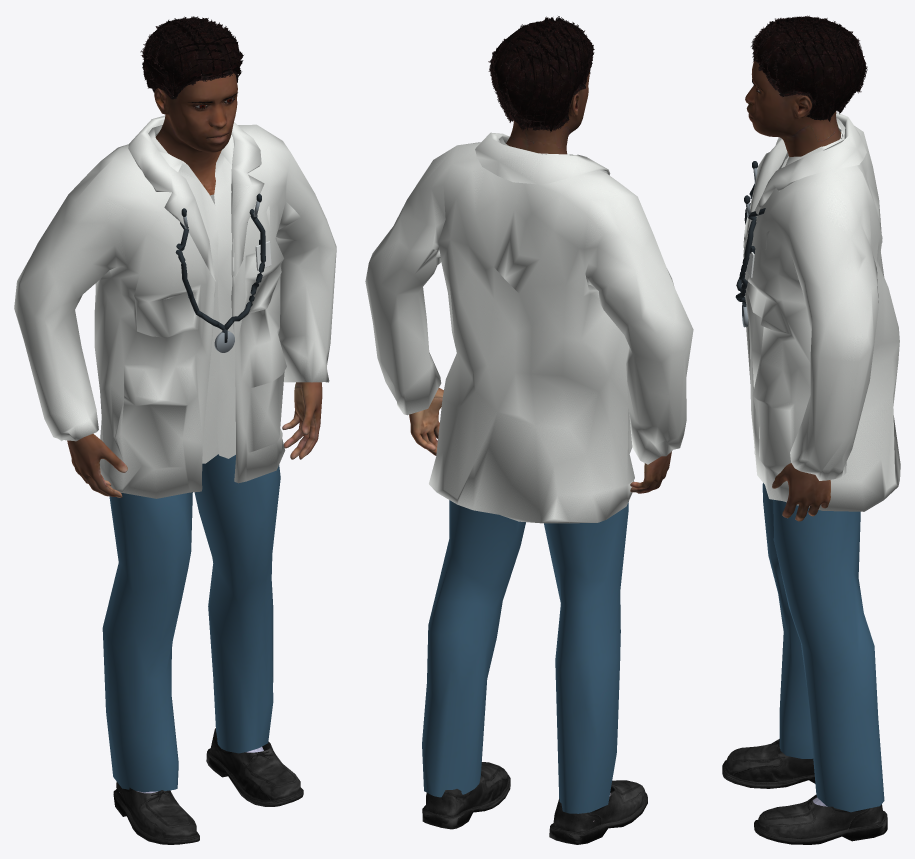
The model's file is hospital-doctor-v400.glb.
The picture shows the model from 3 angles, left to right: view 1: azimuth 30°, elevation 25°; view 2: azimuth 150°, elevation 25°; view 3: azimuth 270°, elevation 25°; orthographic projection.
Parts seen in each view (by area): view 1: male_casualsuit05, Jordan | anatomical body, shoes04, afro01, Clinical uniform | attached ID clip; view 2: male_casualsuit05, afro01, shoes04, Jordan | anatomical body; view 3: male_casualsuit05, afro01, shoes04, Jordan | anatomical body, Clinical uniform | attached ID clip.
Boxes of the visible parts, box(x1,y1,x2,y2) form: male_casualsuit05: box(14, 115, 336, 792); Jordan | anatomical body: box(67, 73, 322, 497); shoes04: box(113, 728, 303, 844); afro01: box(140, 16, 243, 99); Clinical uniform | attached ID clip: box(175, 193, 265, 342); male_casualsuit05: box(365, 132, 693, 813); afro01: box(488, 16, 594, 132); shoes04: box(422, 762, 647, 844); Jordan | anatomical body: box(409, 72, 671, 493); male_casualsuit05: box(743, 112, 900, 812); afro01: box(751, 15, 867, 121); shoes04: box(722, 739, 887, 844); Jordan | anatomical body: box(745, 59, 841, 521); Clinical uniform | attached ID clip: box(735, 161, 765, 316).
Bounding box in the file's own units: 0.7651 × 1.85 × 0.3831.
Materials: 13 (13 with a texture image).
